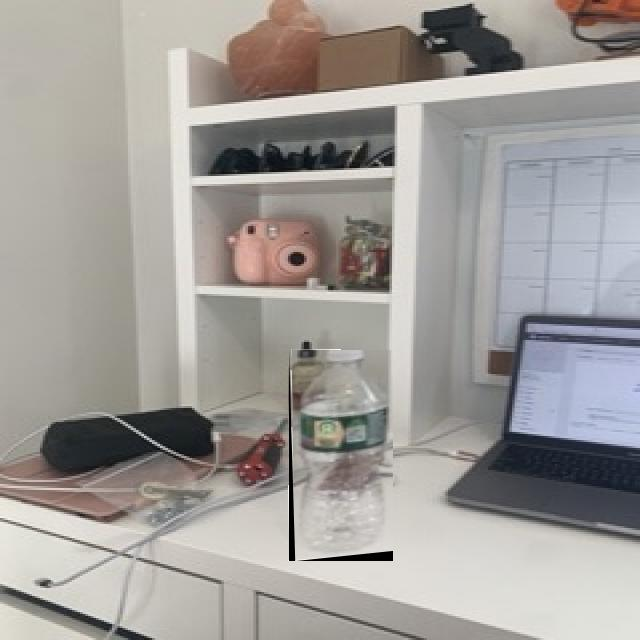water_bottle: (289, 350, 393, 561)
